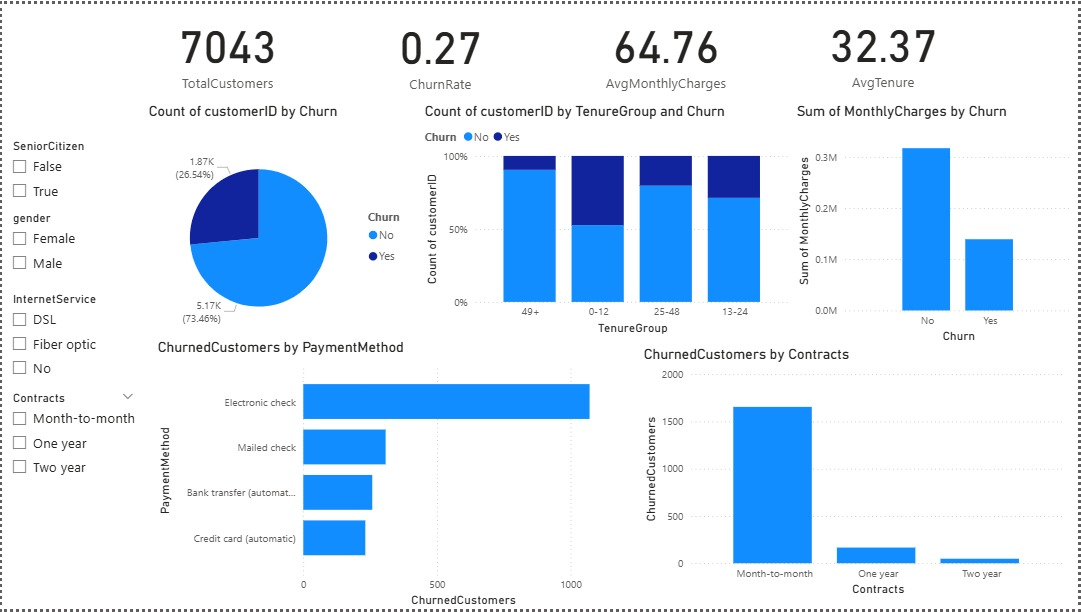

The dashboard page shown, as its layout file describes it:
{"tool":"powerbi","page":{"name":"Page 1","canvas":[1280,720],"ordinal":0},"visuals":[{"type":"card","fields":{"Values":["vCustomers_Final.TotalCustomers"]},"box":[180.5,0,176.1,109.2],"z":0},{"type":"card","fields":{"Values":["vCustomers_Final.ChurnRate"]},"box":[432.3,1.5,179,107.7],"z":1},{"type":"card","fields":{"Values":["vCustomers_Final.AvgMonthlyCharges"]},"box":[703,0,173.2,109.2],"z":2},{"type":"card","fields":{"Values":["vCustomers_Final.AvgTenure"]},"box":[941.7,0,215.4,107.7],"z":3},{"type":"pieChart","fields":{"Category":["vCustomers_Final.Churn"],"Y":["CountNonNull(vCustomers_Final.customerID)"]},"box":[168.8,117.9,329,301.3],"z":4},{"type":"clusteredColumnChart","fields":{"Category":["vCustomers_Final.Contracts"],"Y":["vCustomers_Final.ChurnedCustomers"]},"box":[758.3,407.6,510.9,301.3],"z":5},{"type":"clusteredColumnChart","fields":{"Category":["vCustomers_Final.Churn"],"Y":["Sum(vCustomers_Final.MonthlyCharges)"]},"box":[941.7,117.9,337.7,289.7],"z":6},{"type":"hundredPercentStackedColumnChart","fields":{"Category":["vCustomers_Final.TenureGroup"],"Y":["CountNonNull(vCustomers_Final.customerID)"],"Series":["vCustomers_Final.Churn"]},"box":[497.8,117.9,443.9,279.5],"z":7},{"type":"clusteredBarChart","fields":{"Category":["vCustomers_Final.PaymentMethod"],"Y":["vCustomers_Final.ChurnedCustomers"]},"box":[180.5,397.4,577.9,323.1],"z":8},{"type":"slicer","fields":{"Values":["vCustomers_Final.InternetService"]},"box":[0,337.7,168.8,117.9],"z":9},{"type":"slicer","fields":{"Values":["vCustomers_Final.gender"]},"box":[0,241.6,168.8,96.1],"z":10},{"type":"slicer","fields":{"Values":["vCustomers_Final.SeniorCitizen"]},"box":[0,155.7,168.8,85.9],"z":11},{"type":"slicer","fields":{"Values":["vCustomers_Final.Contracts"]},"box":[0,455.6,168.8,125.2],"z":12}]}

Visuals, with their boxes in screenshot pixels (x1, y1, x2, y2), scaled from the page's 1280x720 canvas onto the 1081x612 screenshot:
card - vCustomers_Final.TotalCustomers: locate(152, 0, 301, 93)
card - vCustomers_Final.ChurnRate: locate(365, 1, 516, 93)
card - vCustomers_Final.AvgMonthlyCharges: locate(594, 0, 740, 93)
card - vCustomers_Final.AvgTenure: locate(795, 0, 977, 92)
pieChart - vCustomers_Final.Churn x CountNonNull(vCustomers_Final.customerID): locate(143, 100, 420, 356)
clusteredColumnChart - vCustomers_Final.Contracts x vCustomers_Final.ChurnedCustomers: locate(640, 346, 1072, 603)
clusteredColumnChart - vCustomers_Final.Churn x Sum(vCustomers_Final.MonthlyCharges): locate(795, 100, 1080, 346)
hundredPercentStackedColumnChart - vCustomers_Final.TenureGroup x CountNonNull(vCustomers_Final.customerID): locate(420, 100, 795, 338)
clusteredBarChart - vCustomers_Final.PaymentMethod x vCustomers_Final.ChurnedCustomers: locate(152, 338, 640, 611)
slicer - vCustomers_Final.InternetService: locate(0, 287, 143, 387)
slicer - vCustomers_Final.gender: locate(0, 205, 143, 287)
slicer - vCustomers_Final.SeniorCitizen: locate(0, 132, 143, 205)
slicer - vCustomers_Final.Contracts: locate(0, 387, 143, 494)
